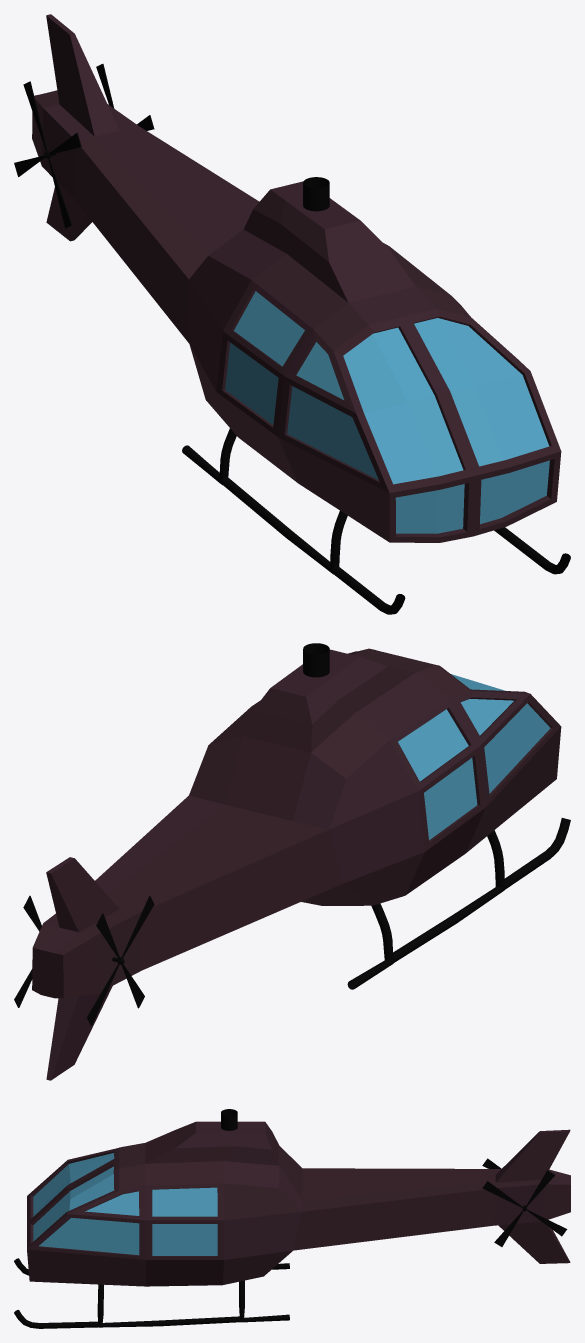
The model's file is govde.glb.
3 views of the same model, one above another, from view 1: azimuth 30°, elevation 25°; view 2: azimuth 150°, elevation 25°; view 3: azimuth 270°, elevation 25° (orthographic). The views are drawn at different scales.
Visible parts, largest first — view 1: govde; view 2: govde; view 3: govde.
Boxes of the visible parts, x1,y1,x2,y2 form: govde: (14,14,570,614); govde: (14,643,570,1080); govde: (14,1109,570,1328).
Size of the model in its own units: 2.06 by 2.82 by 7.49.
3 materials, 3 textured.
